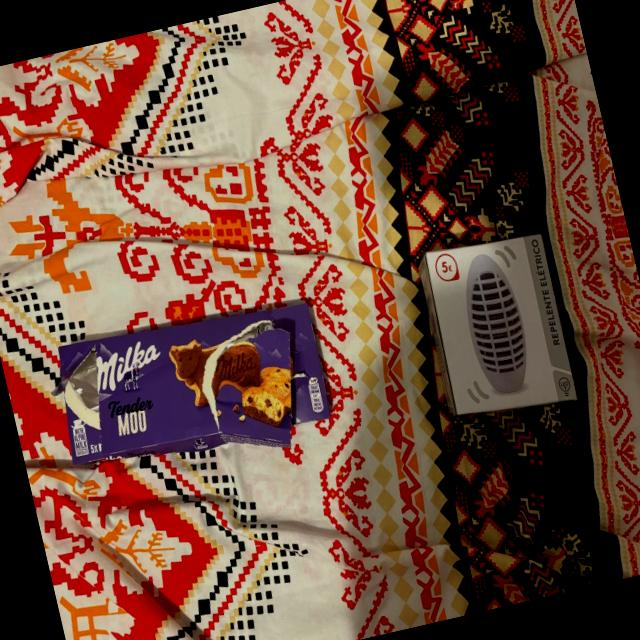damaged_package: (40, 289, 338, 498)
good_package: (414, 225, 580, 430)
